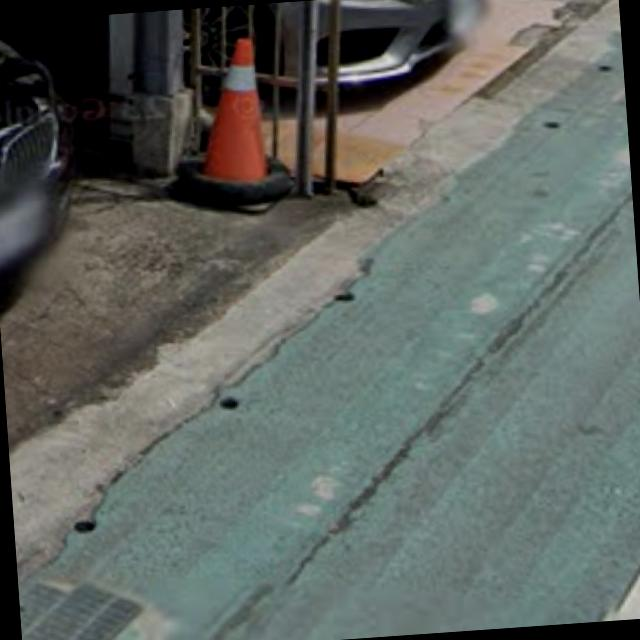cone: (150, 25, 293, 205)
